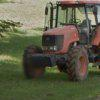Tractor: (11, 8, 100, 90)
